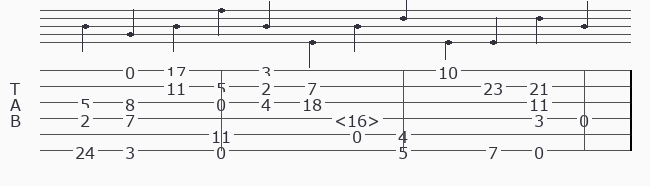0: (125, 62, 139, 78), (216, 142, 230, 158), (216, 94, 230, 110), (352, 126, 366, 142), (534, 142, 548, 158), (579, 110, 593, 126)
10: (438, 62, 462, 78)
11: (166, 78, 190, 94), (211, 126, 235, 142), (529, 94, 553, 110)
17: (166, 62, 190, 78)
18: (302, 94, 326, 110)
2: (80, 110, 94, 126), (261, 78, 275, 94)
21: (529, 78, 553, 94)
23: (483, 78, 507, 94)
24: (75, 142, 99, 158)
3: (125, 142, 139, 158), (261, 62, 275, 78), (534, 110, 548, 126)
4: (261, 94, 275, 110), (398, 126, 412, 142)
5: (80, 94, 94, 110), (216, 78, 230, 94), (398, 142, 412, 158)
7: (125, 110, 139, 126), (307, 78, 321, 94), (488, 142, 502, 158)
8: (125, 94, 139, 110)
harmonic: (334, 110, 384, 126)
